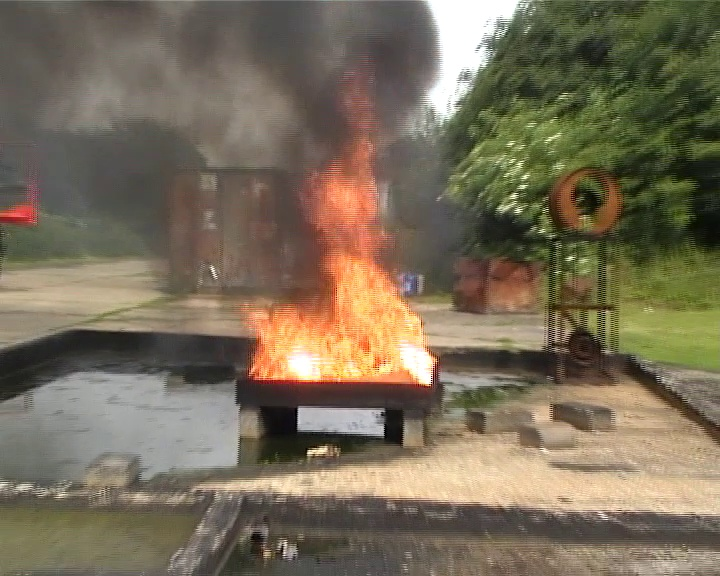fire: (254, 146, 434, 383)
